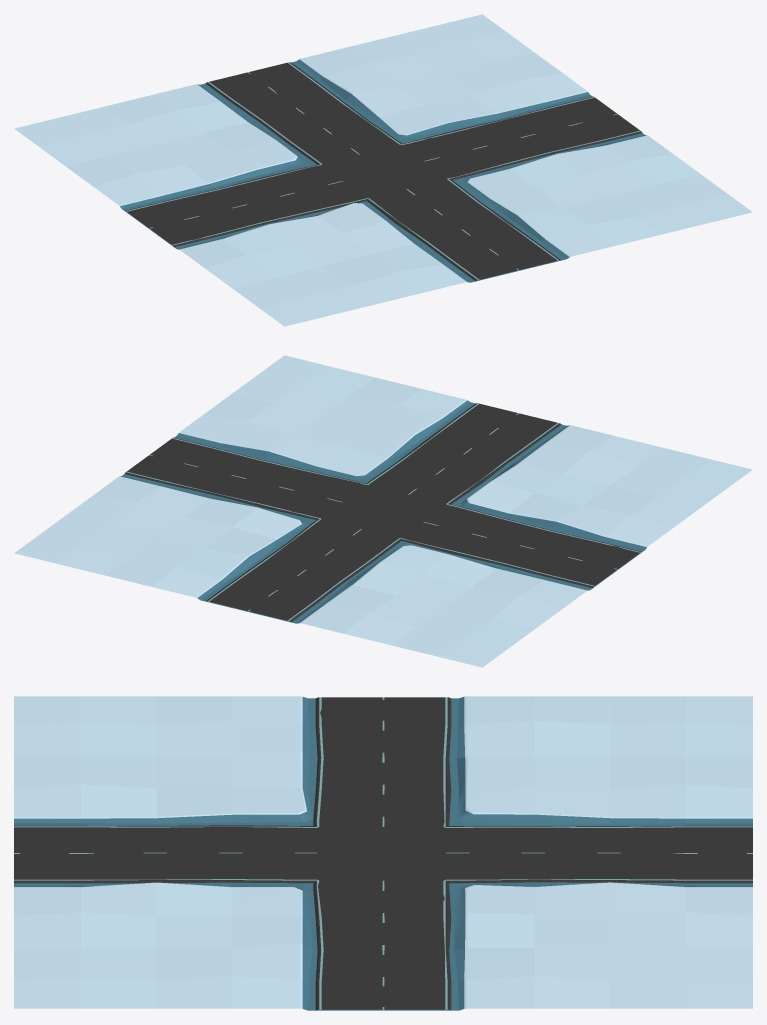
The model's file is model_road_snow_crossroad_03.fbx.
3 renders of one model, top to bottom at view 1: azimuth 30°, elevation 25°; view 2: azimuth 150°, elevation 25°; view 3: azimuth 270°, elevation 25°, orthographic. The views are drawn at different scales.
Parts seen in each view (by area): view 1: model_road_snow_crossroad_03; view 2: model_road_snow_crossroad_03; view 3: model_road_snow_crossroad_03.
Part boxes in pixels (x1,y1,x2,y2): model_road_snow_crossroad_03: (14,14,752,326); model_road_snow_crossroad_03: (14,355,752,667); model_road_snow_crossroad_03: (14,696,752,1010).
Size of the model in its own units: 6000 by 62.08 by 6000.
1 material, 1 textured.
